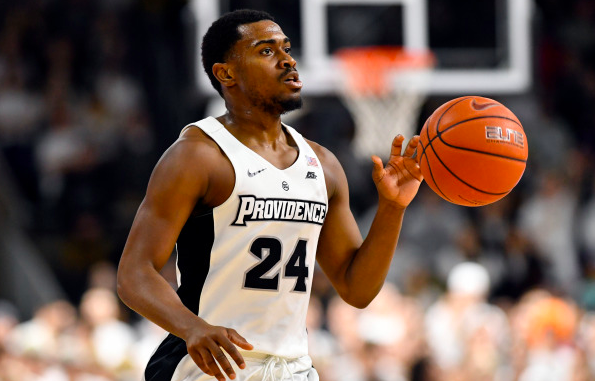ball: (417, 93, 529, 209)
basket: (333, 47, 434, 161)
player: (113, 12, 425, 381)
